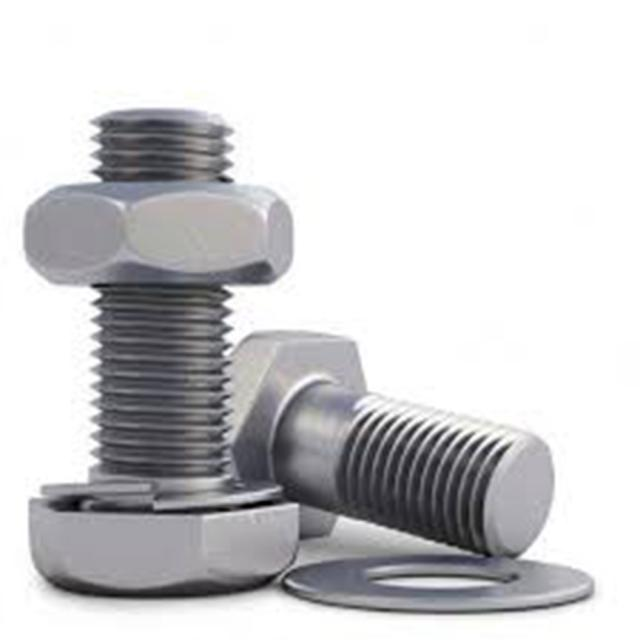Logam: (29, 79, 609, 572)
